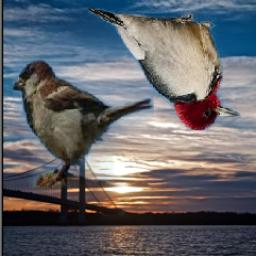Sparrow: (12, 60, 153, 188)
Woodpecker: (88, 9, 241, 131)
